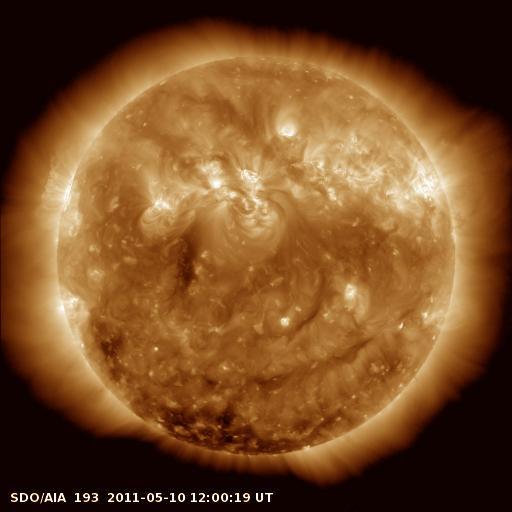coronal_hole: (141, 396, 336, 457), (170, 238, 204, 293)
